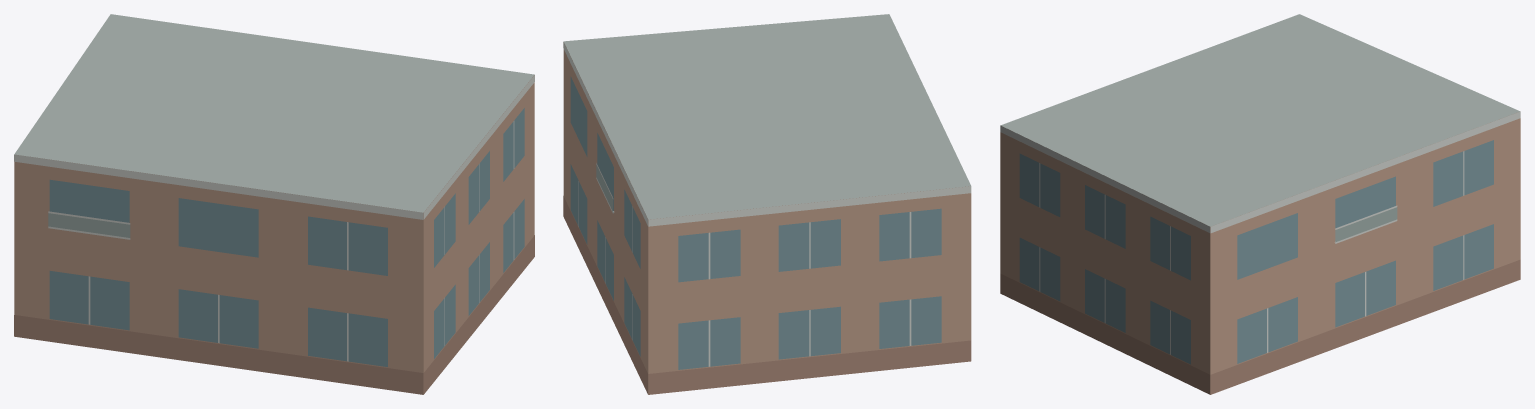
File: survey-upis-32679949.glb
3 views of the same model, side by side, from view 1: azimuth 30°, elevation 25°; view 2: azimuth 150°, elevation 25°; view 3: azimuth 270°, elevation 25° (orthographic). The views are drawn at different scales.
Visible parts, largest first — view 1: survey-upis-32679949.tmp; view 2: survey-upis-32679949.tmp; view 3: survey-upis-32679949.tmp.
Boxes of the visible parts, x1=… form: survey-upis-32679949.tmp: x1=14, y1=14, x2=534, y2=394; survey-upis-32679949.tmp: x1=563, y1=14, x2=971, y2=394; survey-upis-32679949.tmp: x1=1000, y1=14, x2=1520, y2=394.
Bounding box in the file's own units: 16.56 × 6.1 × 17.11.
